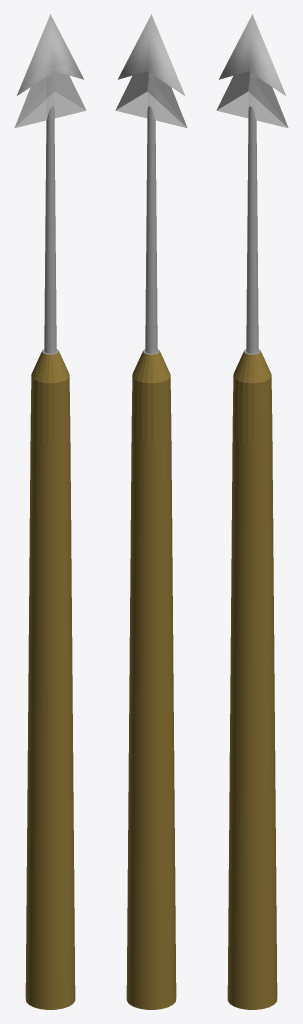
Rendered from Harpoon.fbx.
3 renders of one model, left to right at view 1: azimuth 30°, elevation 25°; view 2: azimuth 150°, elevation 25°; view 3: azimuth 330°, elevation 25°, orthographic.
Visible parts, largest first — view 1: pCone2; view 2: pCone2; view 3: pCone2.
Boxes of the visible parts, x1,y1,x2,y2 form: pCone2: (14, 14, 86, 1009); pCone2: (115, 14, 187, 1009); pCone2: (216, 14, 288, 1009).
Bounding box in the file's own units: 13.3 × 173 × 7.94.
